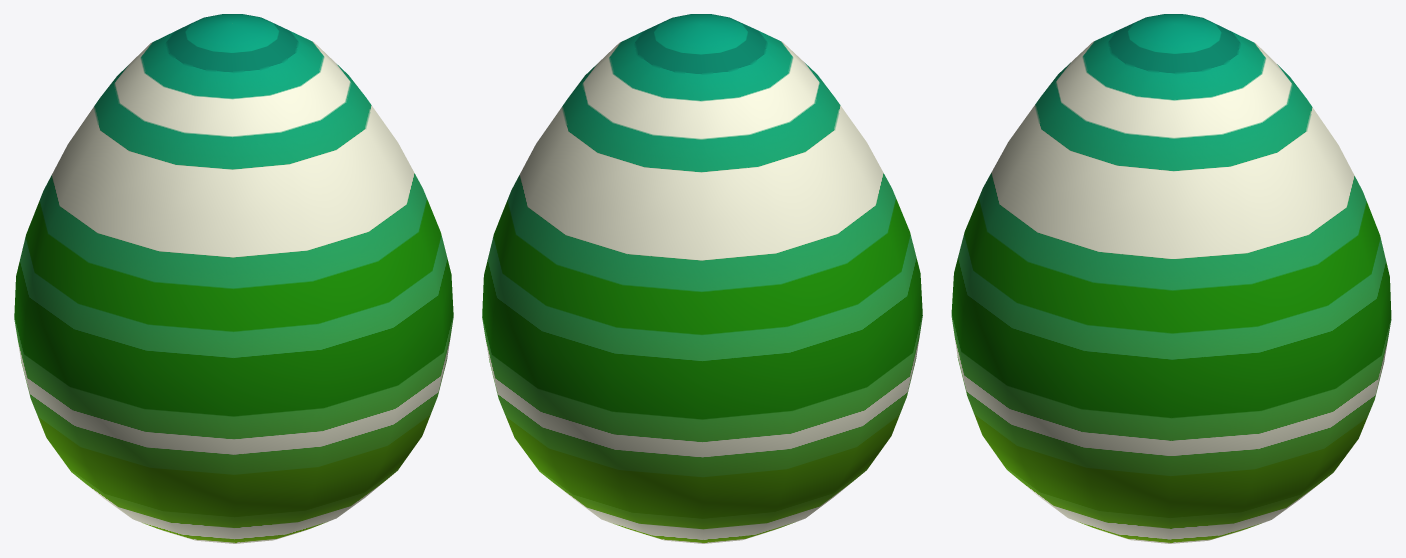
Rendered from DinosaurEgg18.fbx.
The picture shows the model from 3 angles, left to right: view 1: azimuth 30°, elevation 25°; view 2: azimuth 150°, elevation 25°; view 3: azimuth 270°, elevation 25°; orthographic projection.
Parts seen in each view (by area): view 1: DinosaurEgg18; view 2: DinosaurEgg18; view 3: DinosaurEgg18.
Part boxes in pixels (left/top/right/bottom): DinosaurEgg18: left=14, top=14, right=453, bottom=543; DinosaurEgg18: left=482, top=14, right=922, bottom=543; DinosaurEgg18: left=951, top=14, right=1391, bottom=543.
Bounding box in the file's own units: 58.34 × 73.33 × 58.66.
